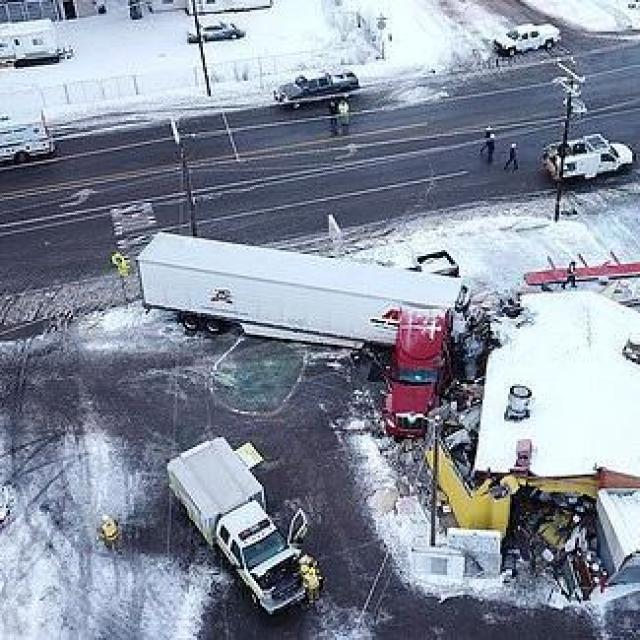traffic_incident: (294, 203, 606, 492)
